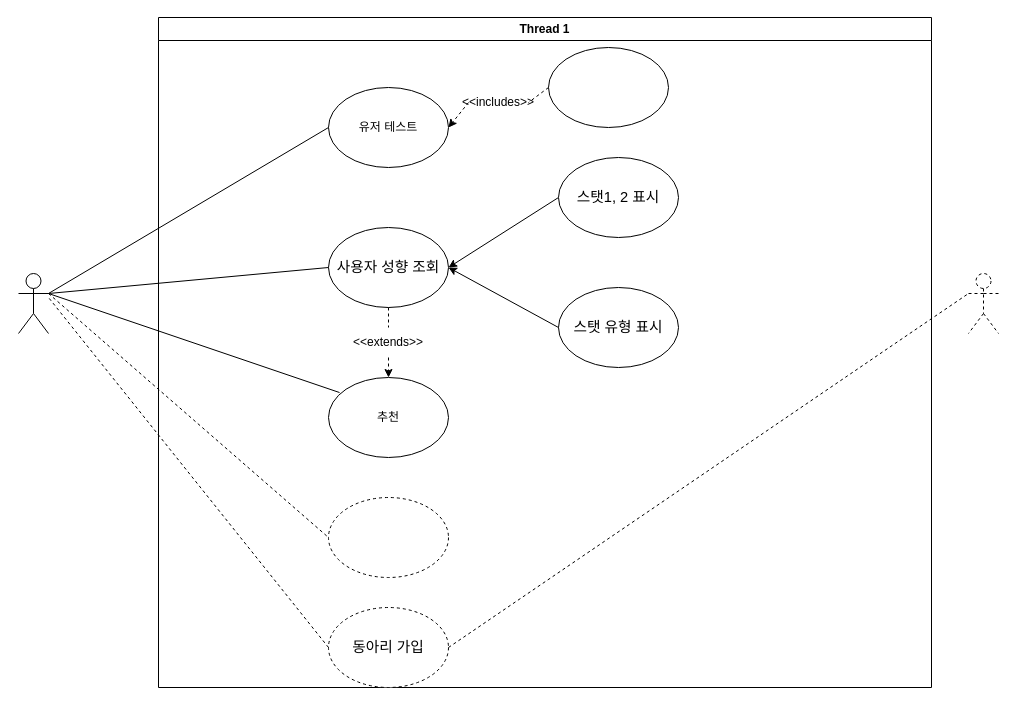
The diagram is 1036 pixels wide and 705 high, and some of its shapes have lost their labels. Here are the shapes that lost their labels. From the top down, the centre of each, then its label:
point (608, 87): 시나리오 선택
point (33, 303): 사용자
point (983, 303): 동아리 관리자
point (388, 537): 동아리 조회
